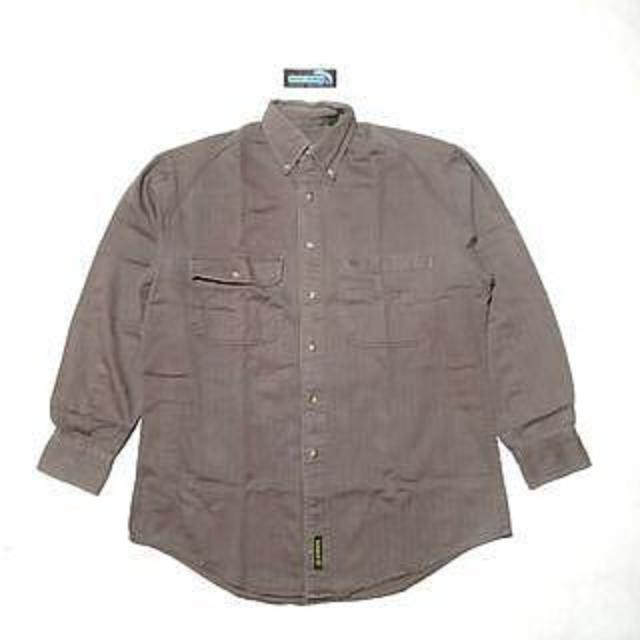SHIRT: (29, 94, 608, 610)
